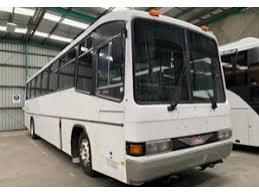bus: (23, 10, 234, 187)
